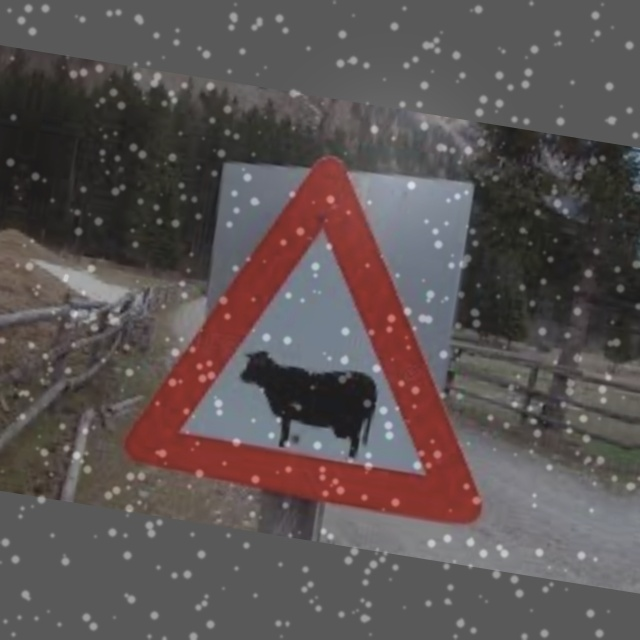Cattle: (125, 148, 517, 529)
